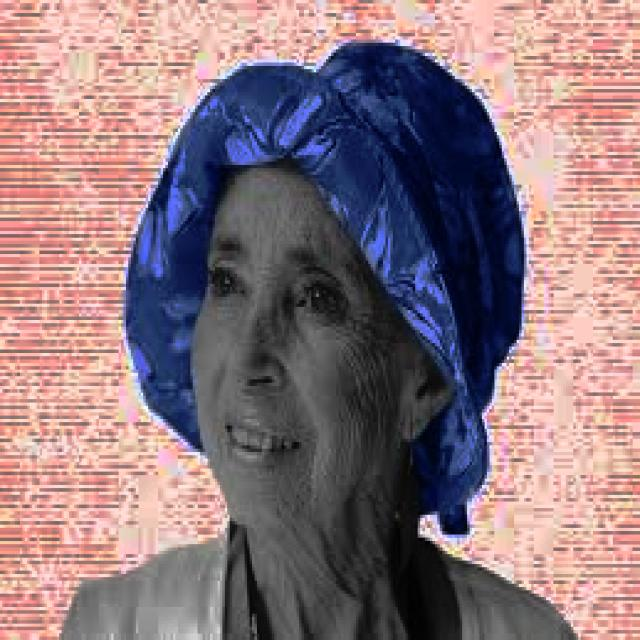TOPI: (121, 40, 529, 531)
